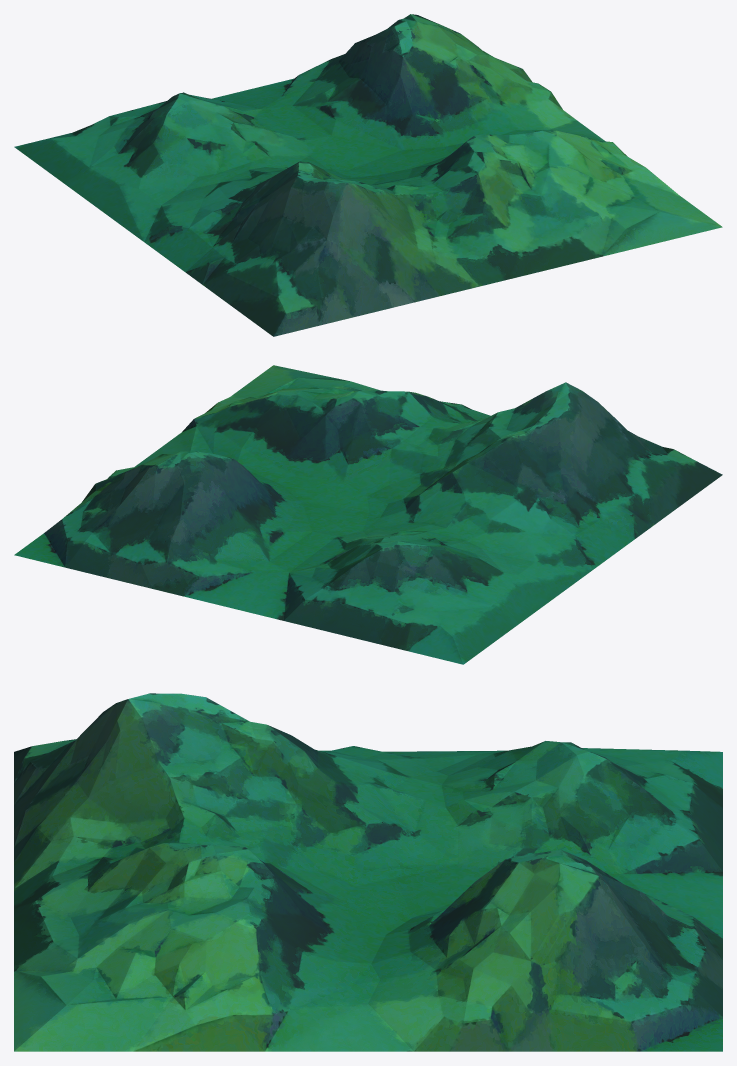
File: land_hills.fbx
3 views of the same model, one above another, from view 1: azimuth 30°, elevation 25°; view 2: azimuth 150°, elevation 25°; view 3: azimuth 270°, elevation 25° (orthographic). The views are drawn at different scales.
Parts seen in each view (by area): view 1: land_hills; view 2: land_hills; view 3: land_hills.
Part boxes in pixels (x1,y1,x2,y2): land_hills: (14, 14, 722, 336); land_hills: (14, 365, 722, 664); land_hills: (14, 693, 722, 1051).
Bounding box in the file's own units: 10 × 2.02 × 10.
